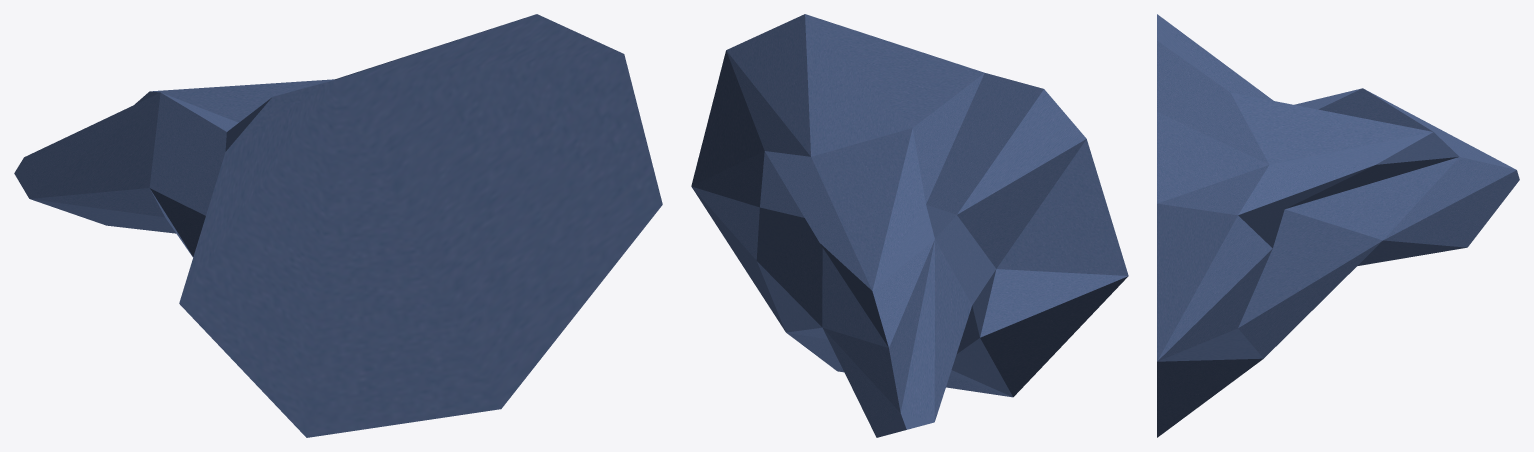
File: blue_rock_2.FBX
3 views of the same model, side by side, from view 1: azimuth 30°, elevation 25°; view 2: azimuth 150°, elevation 25°; view 3: azimuth 270°, elevation 25° (orthographic). The views are drawn at different scales.
Parts seen in each view (by area): view 1: desert_rock_1.003; view 2: desert_rock_1.003; view 3: desert_rock_1.003.
Part boxes in pixels (<box>): desert_rock_1.003: <box>14,14,662,437</box>; desert_rock_1.003: <box>691,14,1128,437</box>; desert_rock_1.003: <box>1157,14,1519,437</box>.
Size of the model in its own units: 346 by 264 by 254.
